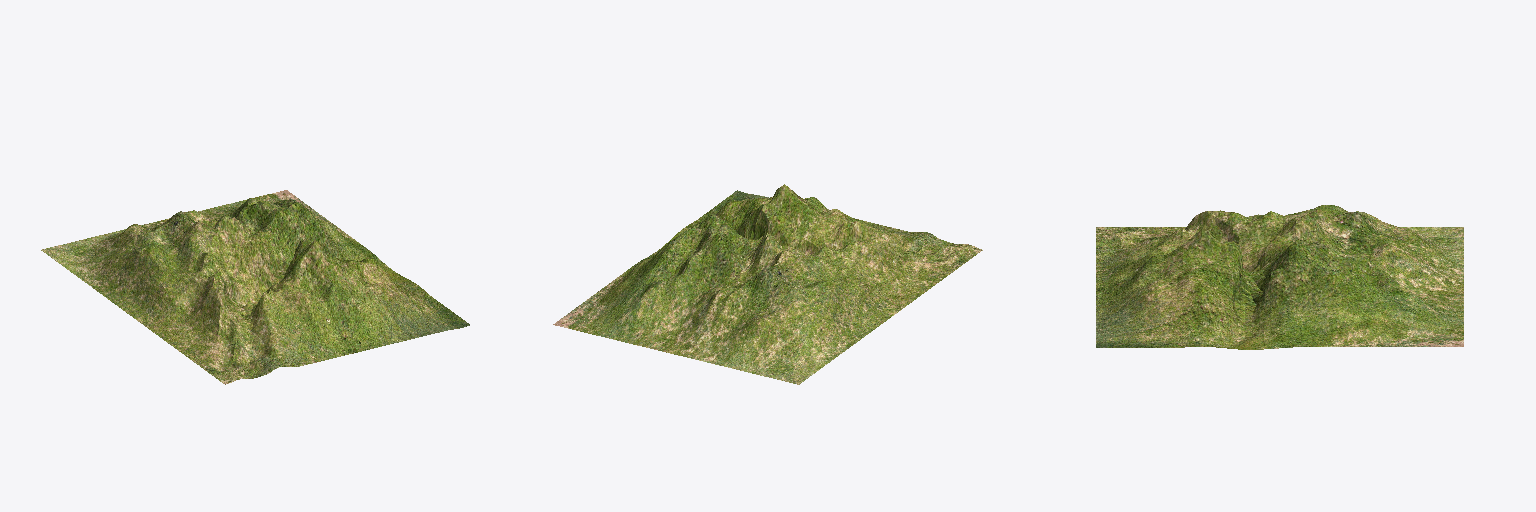
The picture shows the model from 3 angles: view 1: azimuth 30°, elevation 25°; view 2: azimuth 150°, elevation 25°; view 3: azimuth 270°, elevation 25°; orthographic projection.
Parts seen in each view (by area): view 1: Landscape; view 2: Landscape; view 3: Landscape.
Boxes of the visible parts, box(x1,y1,x2,y2) form: Landscape: box(41, 190, 469, 384); Landscape: box(553, 184, 982, 384); Landscape: box(1096, 205, 1463, 349).
Size of the model in its own units: 6.47 by 1.88 by 8.39.
Materials: 2 (1 with a texture image).